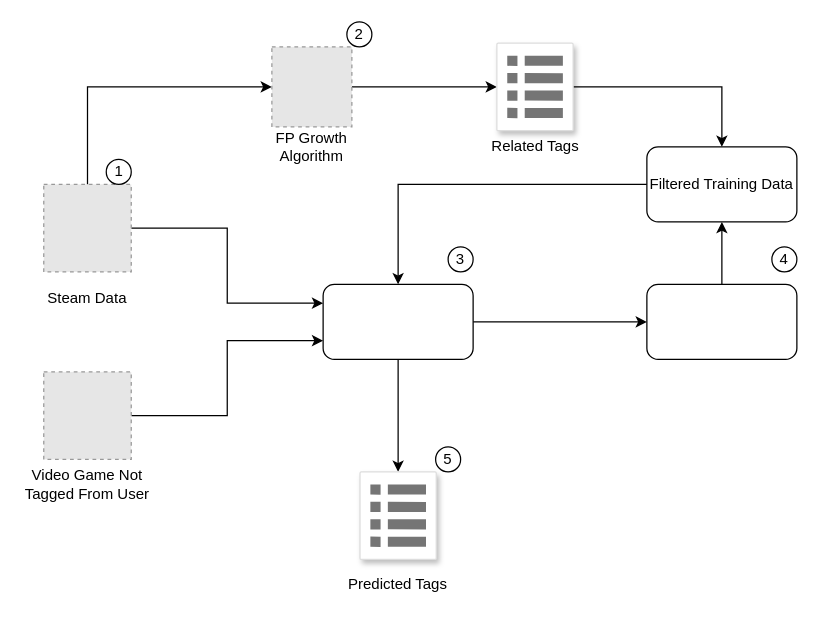
The diagram is 819 pixels wide and 619 high, and some of its shapes have lost their labels. Grey dashed boxes stand in for pictures. The centre of each missing label's shape, as x and y in pixels:
CNB: the point at 397,321
Main Topic: the point at 721,321
